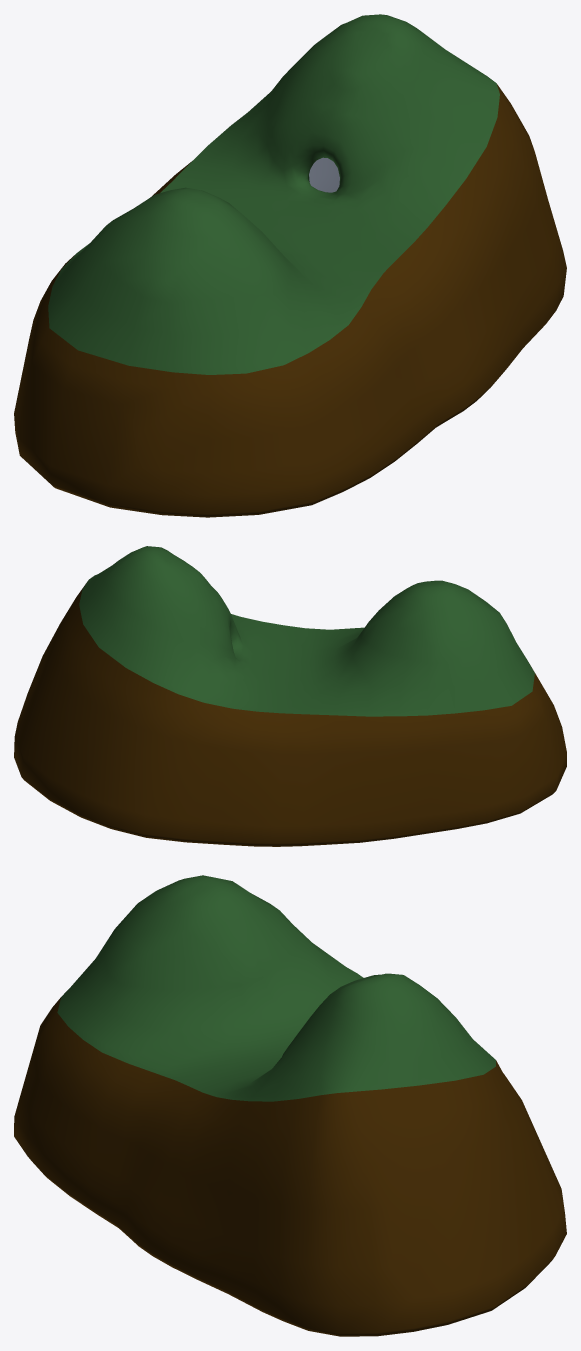
Rendered from Mountain.fbx.
3 views of the same model, one above another, from view 1: azimuth 30°, elevation 25°; view 2: azimuth 150°, elevation 25°; view 3: azimuth 270°, elevation 25° (orthographic). The views are drawn at different scales.
Visible parts, largest first — view 1: Bottom_Outside, Top, Bottom_Inner; view 2: Bottom_Outside, Top; view 3: Bottom_Outside, Top.
Boxes of the visible parts, bbox=[...] form: Bottom_Outside: bbox=[14, 84, 566, 517]; Top: bbox=[48, 14, 499, 374]; Bottom_Inner: bbox=[309, 157, 339, 192]; Bottom_Outside: bbox=[14, 583, 566, 846]; Top: bbox=[79, 546, 534, 716]; Bottom_Outside: bbox=[14, 997, 566, 1336]; Top: bbox=[57, 875, 495, 1101].
Size of the model in its own units: 95.84 by 46.03 by 78.45.
